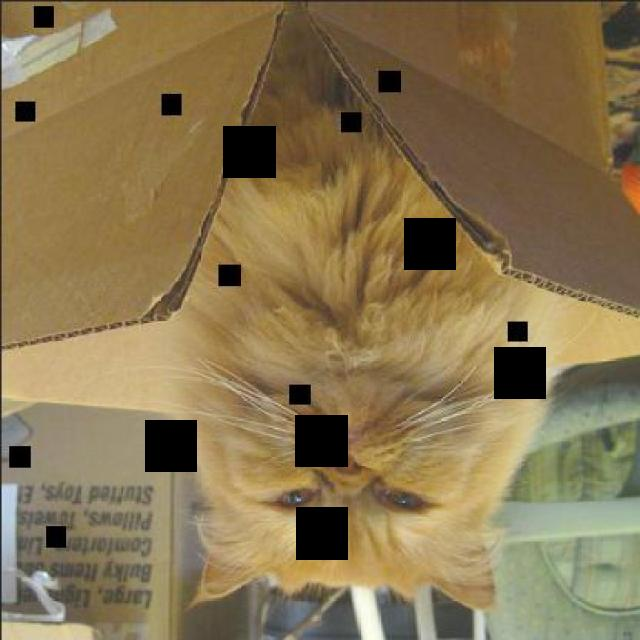unauthorized: (152, 9, 638, 614)
